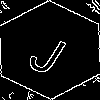J: (25, 25, 75, 77)
